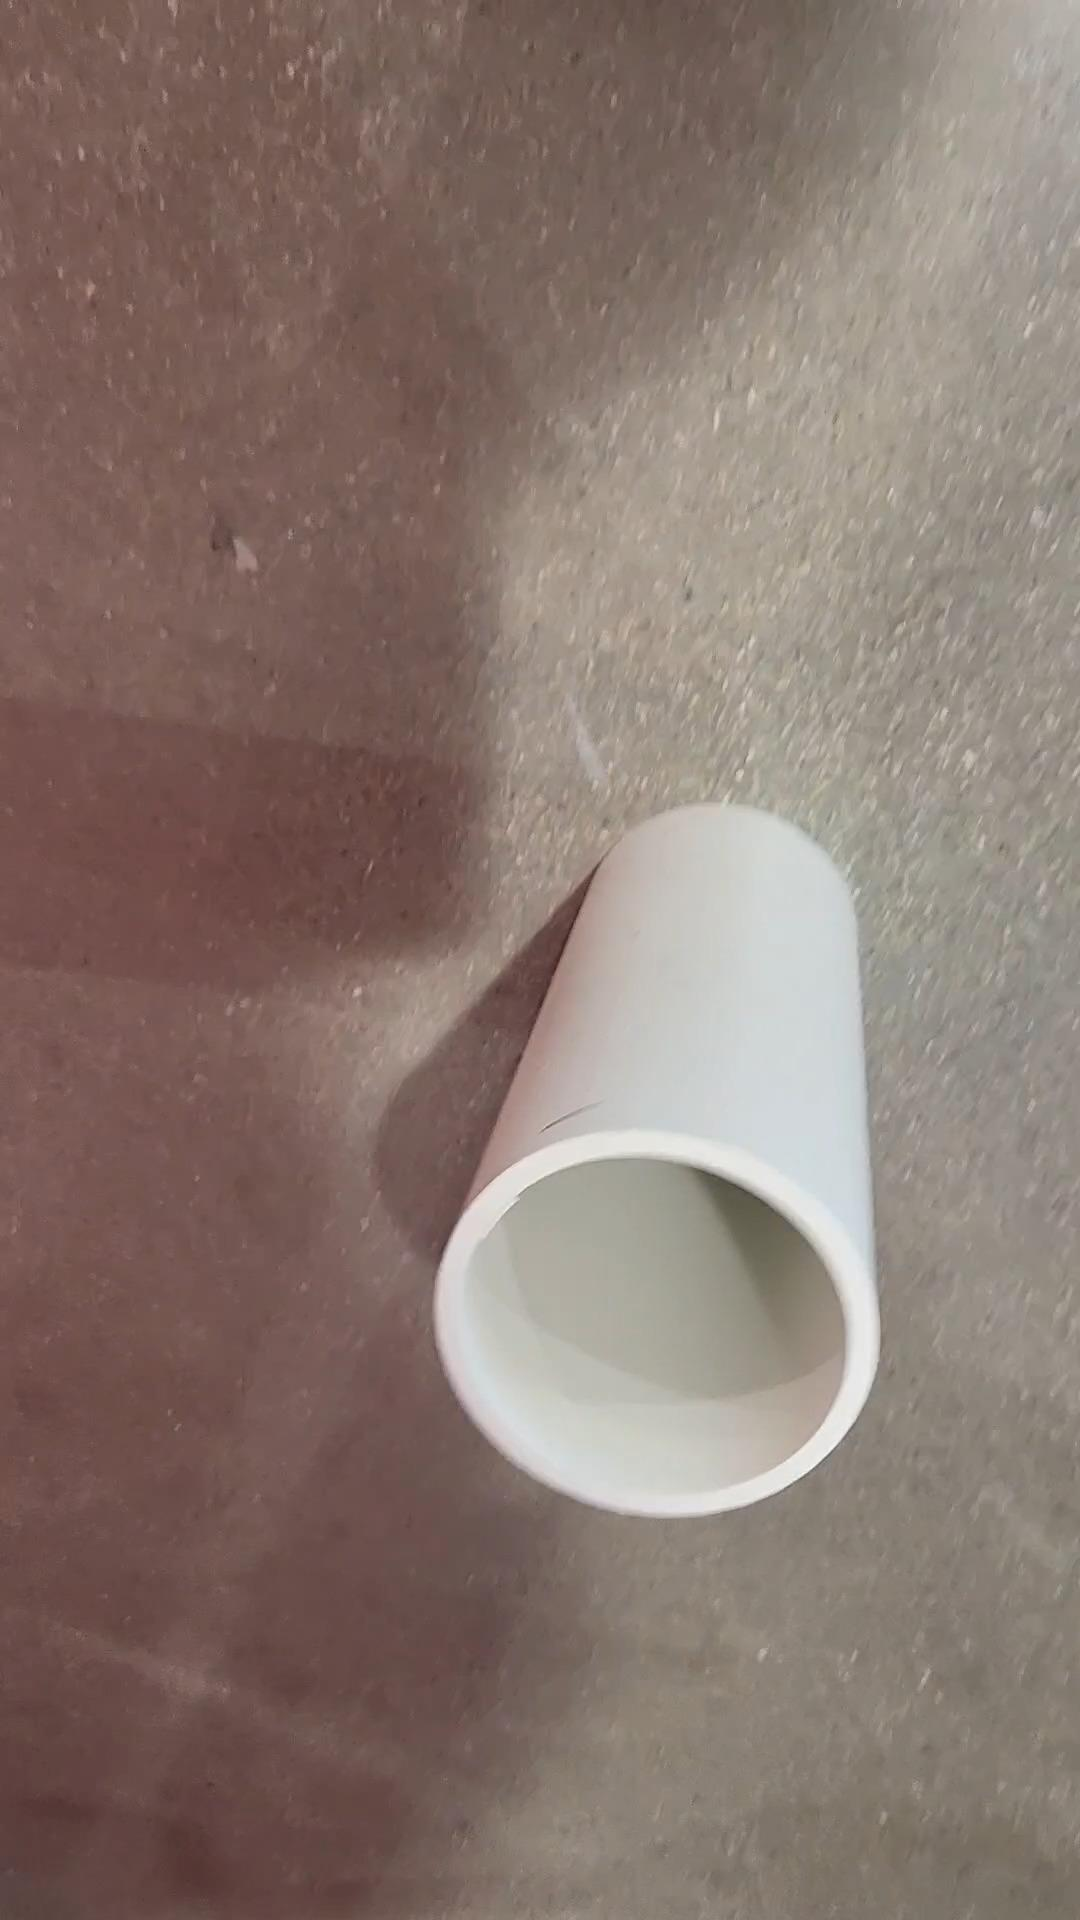coral: (435, 805, 878, 1512)
